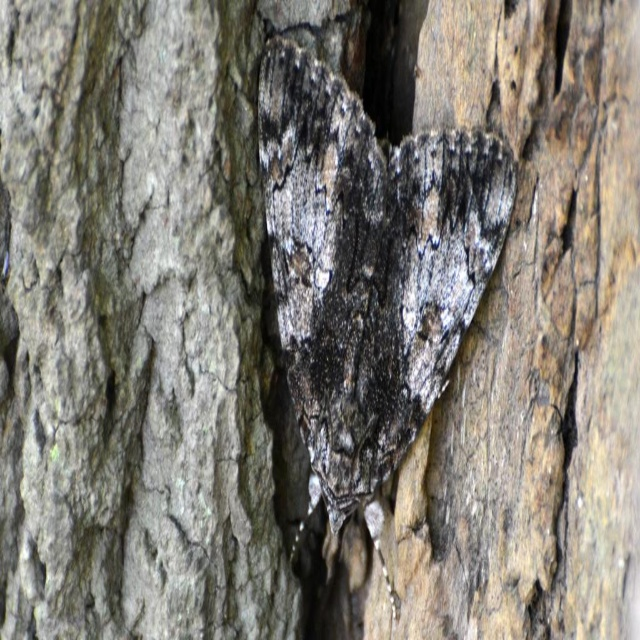Butterfly: (260, 48, 523, 557)
